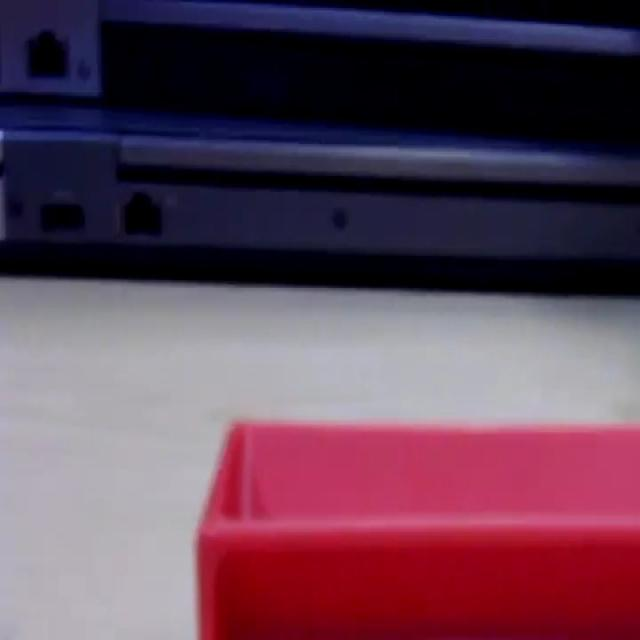red_block: (194, 416, 638, 637)
